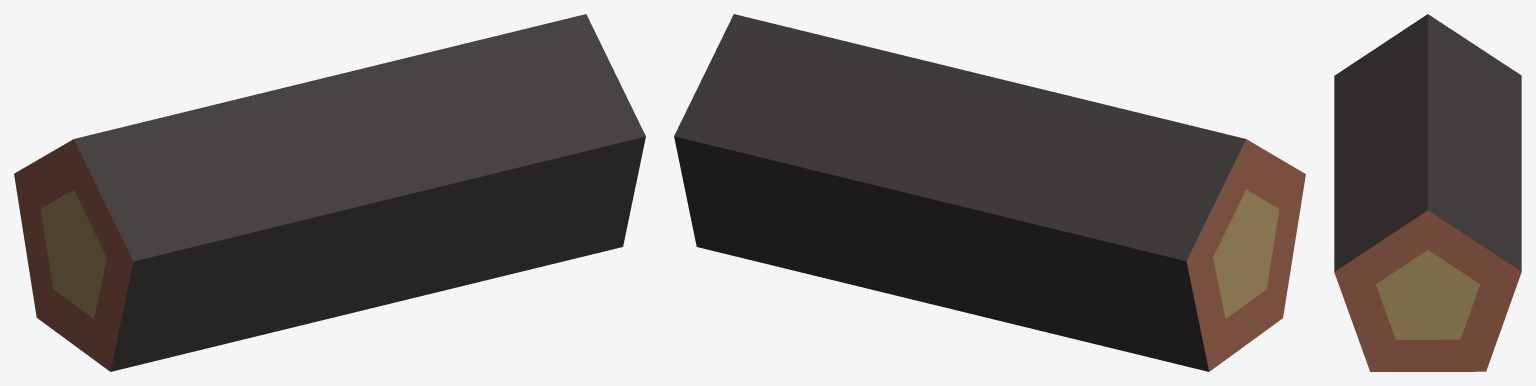
The model's file is TB_Prop_Lumber_C.FBX.
The picture shows the model from 3 angles, left to right: view 1: azimuth 30°, elevation 25°; view 2: azimuth 150°, elevation 25°; view 3: azimuth 270°, elevation 25°; orthographic projection. The views are drawn at different scales.
Parts seen in each view (by area): view 1: TB_Prop_Lumber_C; view 2: TB_Prop_Lumber_C; view 3: TB_Prop_Lumber_C.
Part boxes in pixels (bbox=[...]): TB_Prop_Lumber_C: bbox=[14, 14, 645, 371]; TB_Prop_Lumber_C: bbox=[674, 14, 1305, 371]; TB_Prop_Lumber_C: bbox=[1334, 14, 1521, 371].
Size of the model in its own units: 1.65 by 0.6352 by 0.6675.
